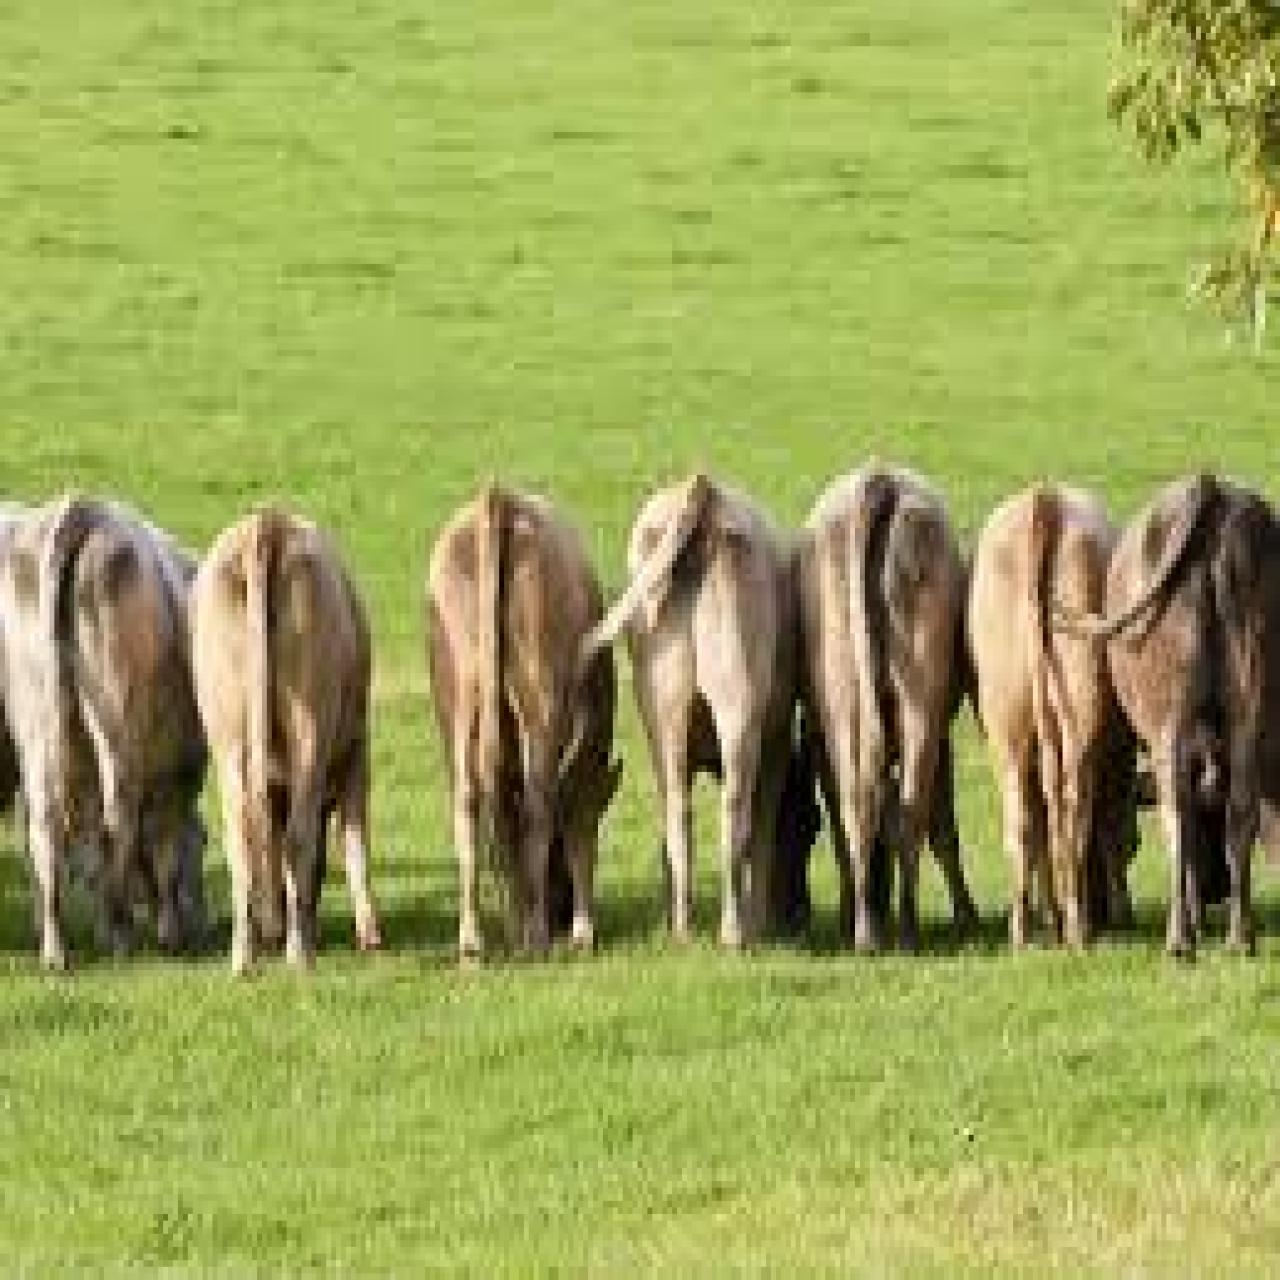cow: (0, 485, 198, 986), (593, 471, 796, 953), (183, 511, 386, 980), (783, 469, 975, 956), (428, 485, 615, 967), (1102, 485, 1280, 973), (959, 482, 1126, 956)
